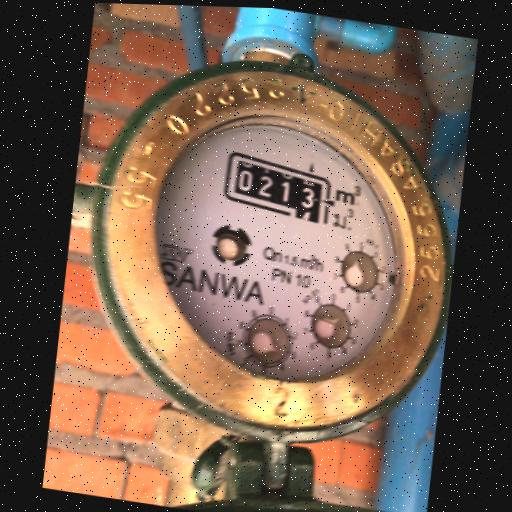0: (233, 159, 259, 197)
1: (272, 170, 299, 211)
2: (253, 165, 278, 203)
3: (293, 177, 323, 224)
border_water_meter_number: (216, 148, 342, 228)
